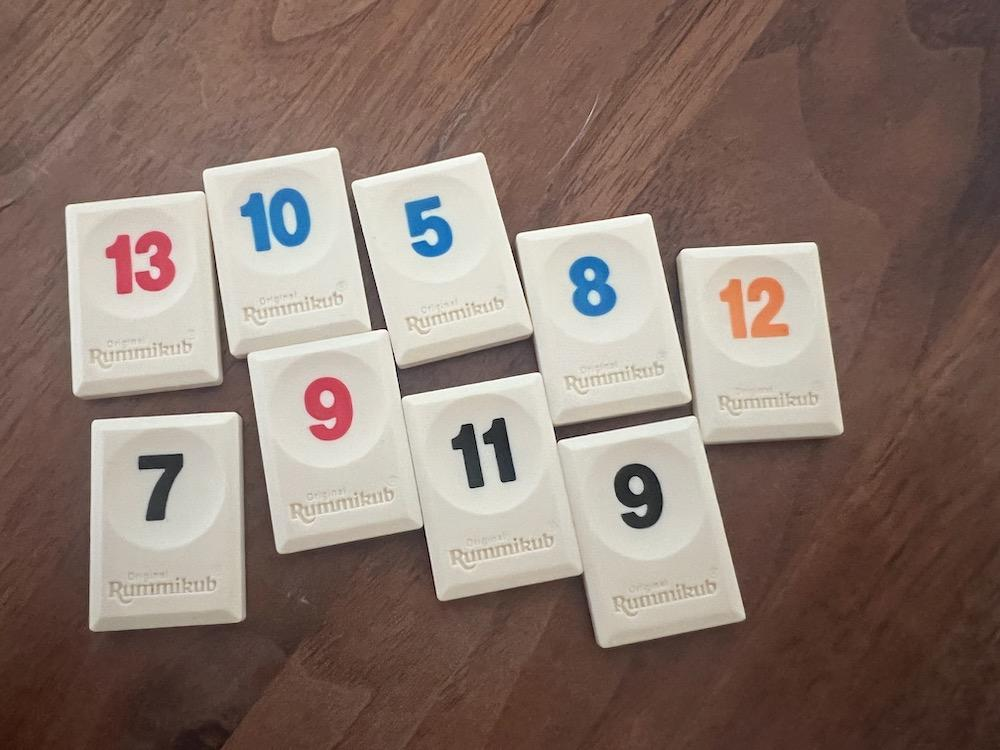black_11: (402, 373, 582, 600)
black_7: (90, 412, 246, 631)
black_9: (559, 416, 744, 646)
blue_10: (203, 148, 371, 357)
blue_5: (352, 152, 531, 367)
blue_8: (516, 215, 691, 426)
orange_12: (678, 242, 844, 443)
red_13: (66, 191, 223, 398)
red_9: (248, 330, 422, 553)
